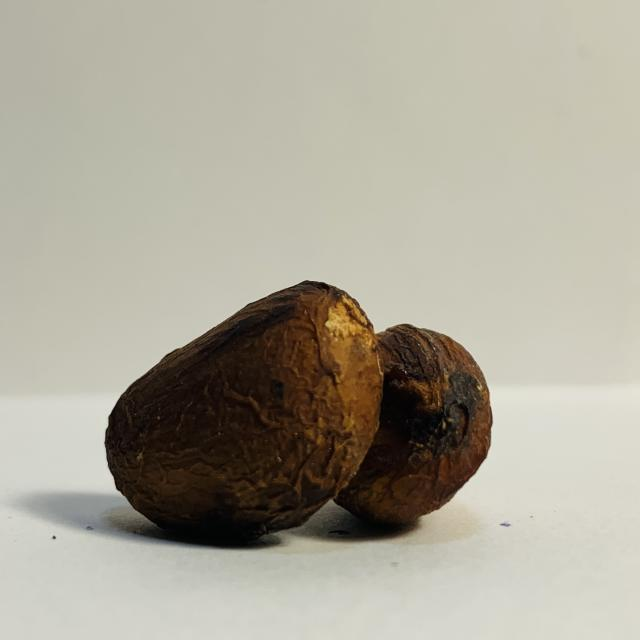Agglomerated_cocoabeans: (0, 265, 529, 585)
